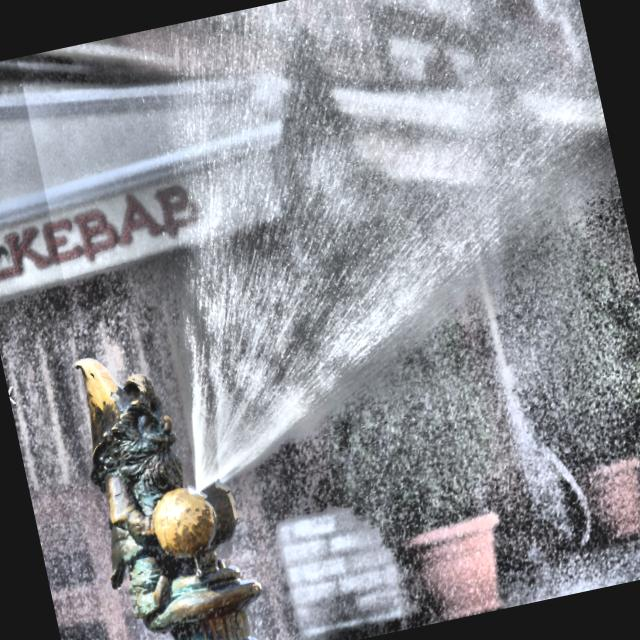Orzezwiacz: (74, 358, 261, 640)
